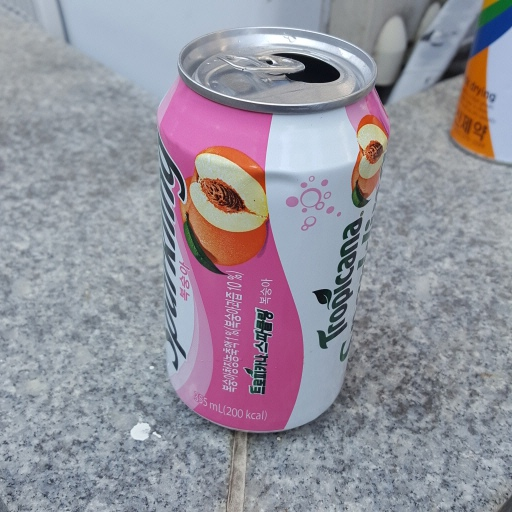Metal_0: (152, 28, 389, 439)
